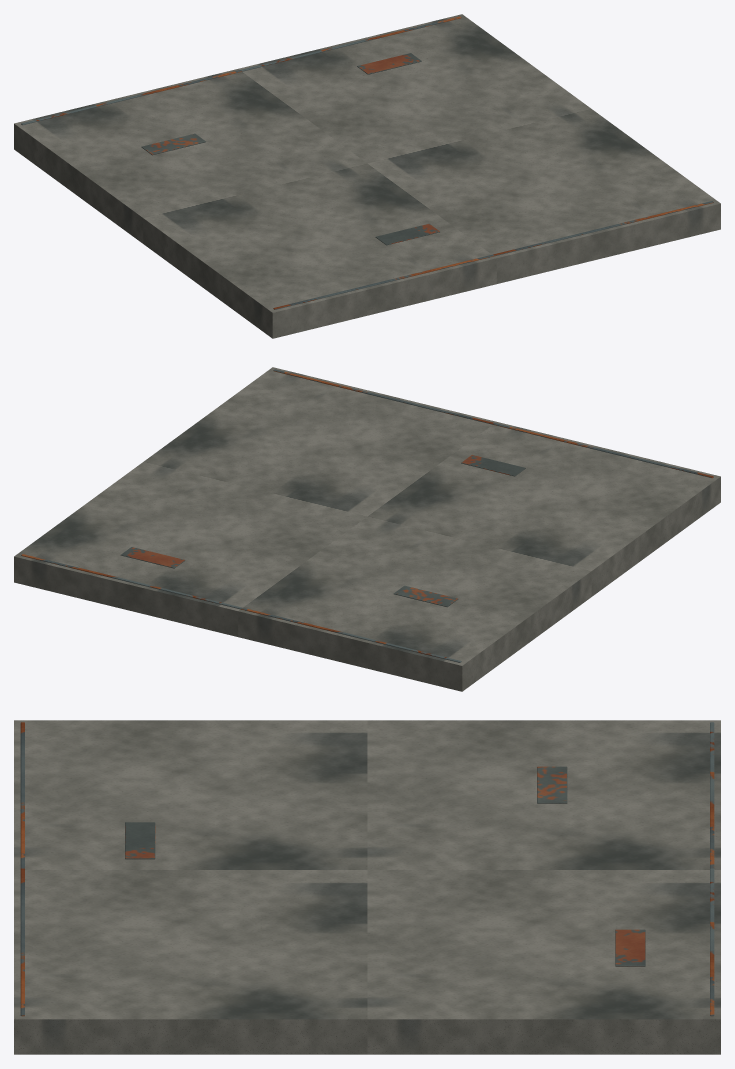
The model's file is floor_slab_4m_v03.glb.
3 views of the same model, one above another, from view 1: azimuth 30°, elevation 25°; view 2: azimuth 150°, elevation 25°; view 3: azimuth 270°, elevation 25° (orthographic). The views are drawn at different scales.
Visible parts, largest first — view 1: concrete_combined, steel_combined, roof_combined; view 2: concrete_combined, steel_combined, roof_combined; view 3: concrete_combined, roof_combined, steel_combined.
Boxes of the visible parts, x1,y1,x2,y2 form: concrete_combined: (14, 14, 720, 338); steel_combined: (21, 16, 713, 309); roof_combined: (141, 53, 439, 245); concrete_combined: (14, 367, 720, 691); steel_combined: (21, 369, 713, 662); roof_combined: (120, 455, 525, 607); concrete_combined: (14, 720, 720, 1054); roof_combined: (125, 766, 645, 966); steel_combined: (20, 722, 714, 1016).
Bounding box in the file's own units: 3.98 × 0.228 × 3.98.
3 materials, 3 textured.
